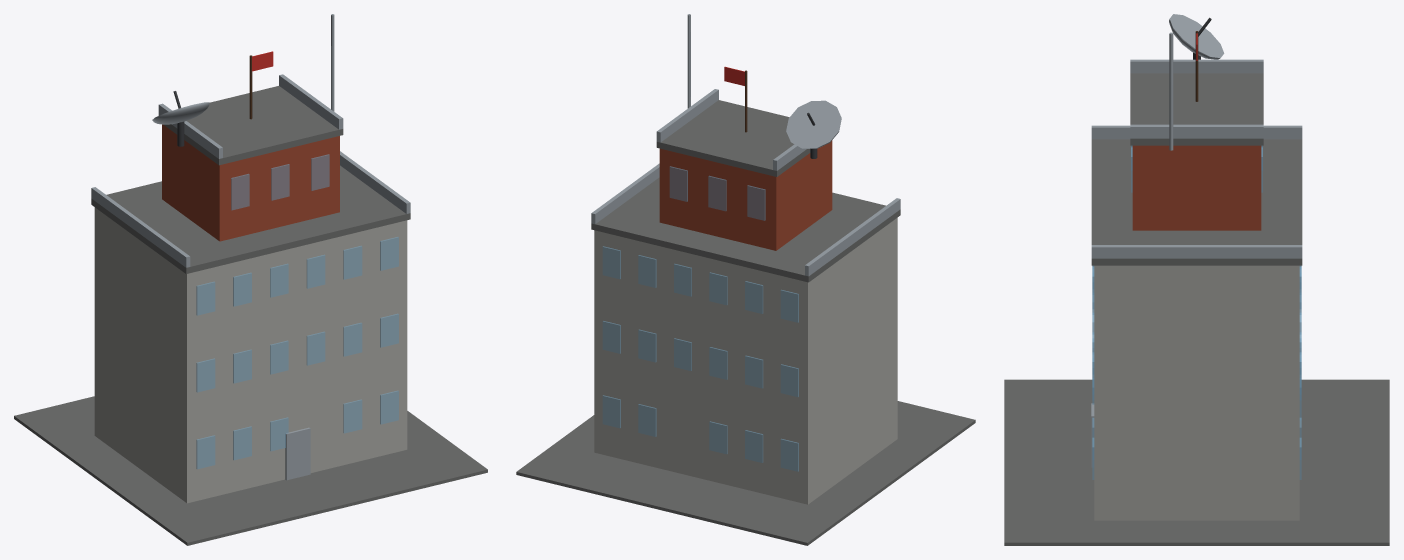
Rendered from bld_special_command_center_a06.glb.
3 views of the same model, side by side, from view 1: azimuth 30°, elevation 25°; view 2: azimuth 150°, elevation 25°; view 3: azimuth 270°, elevation 25° (orthographic). The views are drawn at different scales.
Visible parts, largest first — view 1: body, antenna; view 2: body, antenna; view 3: body, antenna.
Boxes of the visible parts, x1,y1,x2,y2 form: body: (14, 14, 487, 545); antenna: (152, 91, 209, 146); body: (516, 14, 975, 545); antenna: (786, 100, 841, 158); body: (1004, 31, 1389, 545); antenna: (1169, 14, 1224, 59).
Size of what is drawn, in the model's own units: 15 by 20.15 by 15.
